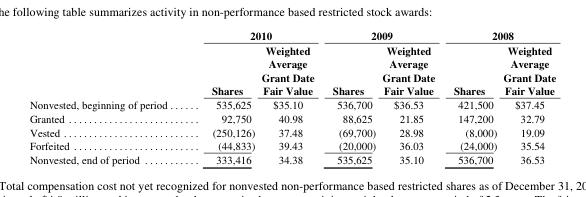table: (28, 29, 555, 166)
table column: (28, 29, 188, 166), (188, 29, 257, 166), (257, 29, 322, 166), (378, 29, 443, 166), (322, 29, 378, 166), (443, 29, 499, 166), (499, 29, 555, 166)
table column header: (28, 29, 555, 98)
table row: (28, 43, 555, 98), (28, 29, 555, 43), (28, 111, 555, 125), (28, 138, 555, 152), (28, 152, 555, 166), (28, 98, 555, 111), (28, 125, 555, 138)
table spanning cell: (188, 29, 322, 43), (322, 29, 443, 43), (443, 29, 555, 43)
